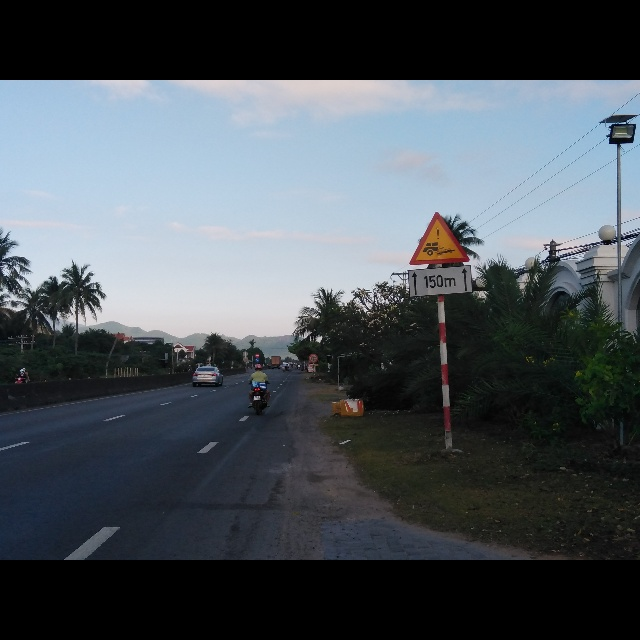Đoạn đường hay xảy ra tai nạn: (409, 212, 469, 264)
